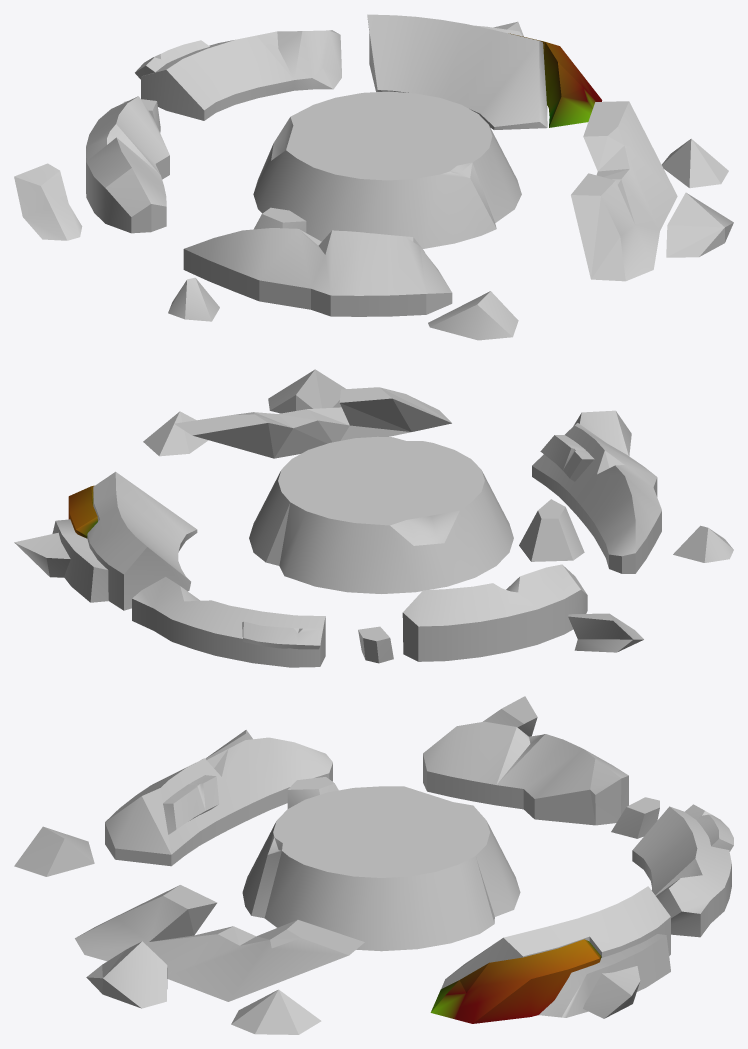
3 views of the same model, one above another, from view 1: azimuth 30°, elevation 25°; view 2: azimuth 150°, elevation 25°; view 3: azimuth 270°, elevation 25° (orthographic). The views are drawn at different scales.
Parts seen in each view (by area): view 1: stone01, stone02, stone08, stone11, stone03, stone05, stone06, stone12, stone10, stone13, stone09, stone07; view 2: stone01, stone02, stone05, stone08, stone03, stone11, stone07, stone06, stone12, stone13, stone10, stone09 (+1 smaller); view 3: stone01, stone02, stone11, stone08, stone05, stone03, stone12, stone13, stone10, stone04, stone06, stone07.
Part boxes in pixels (x1=…): stone01: x1=253, y1=91, x2=521, y2=248; stone02: x1=367, y1=14, x2=602, y2=129; stone08: x1=183, y1=228, x2=452, y2=316; stone11: x1=571, y1=101, x2=677, y2=281; stone03: x1=135, y1=30, x2=341, y2=120; stone05: x1=86, y1=96, x2=169, y2=233; stone06: x1=14, y1=163, x2=82, y2=240; stone12: x1=666, y1=192, x2=733, y2=257; stone10: x1=428, y1=291, x2=518, y2=340; stone13: x1=662, y1=138, x2=728, y2=188; stone09: x1=168, y1=277, x2=219, y2=321; stone07: x1=254, y1=207, x2=306, y2=232; stone01: x1=249, y1=436, x2=513, y2=593; stone02: x1=14, y1=471, x2=197, y2=610; stone05: x1=402, y1=564, x2=587, y2=661; stone08: x1=532, y1=423, x2=661, y2=573; stone03: x1=132, y1=577, x2=325, y2=667; stone11: x1=174, y1=387, x2=451, y2=458; stone07: x1=519, y1=499, x2=584, y2=561; stone06: x1=568, y1=613, x2=643, y2=652; stone12: x1=268, y1=369, x2=345, y2=413; stone13: x1=143, y1=411, x2=208, y2=456; stone10: x1=573, y1=410, x2=631, y2=455; stone09: x1=673, y1=525, x2=733, y2=562; stone01: x1=242, y1=786, x2=520, y2=951; stone02: x1=430, y1=886, x2=670, y2=1023; stone11: x1=75, y1=885, x2=364, y2=1001; stone08: x1=105, y1=737, x2=332, y2=866; stone05: x1=423, y1=721, x2=628, y2=825; stone03: x1=632, y1=804, x2=733, y2=937; stone12: x1=86, y1=941, x2=167, y2=1008; stone13: x1=231, y1=989, x2=321, y2=1034; stone10: x1=14, y1=826, x2=94, y2=876; stone04: x1=611, y1=797, x2=659, y2=838; stone06: x1=483, y1=696, x2=537, y2=736; stone07: x1=287, y1=777, x2=338, y2=808.
Bounding box in the file's own units: 2.34 × 0.242 × 2.39.
